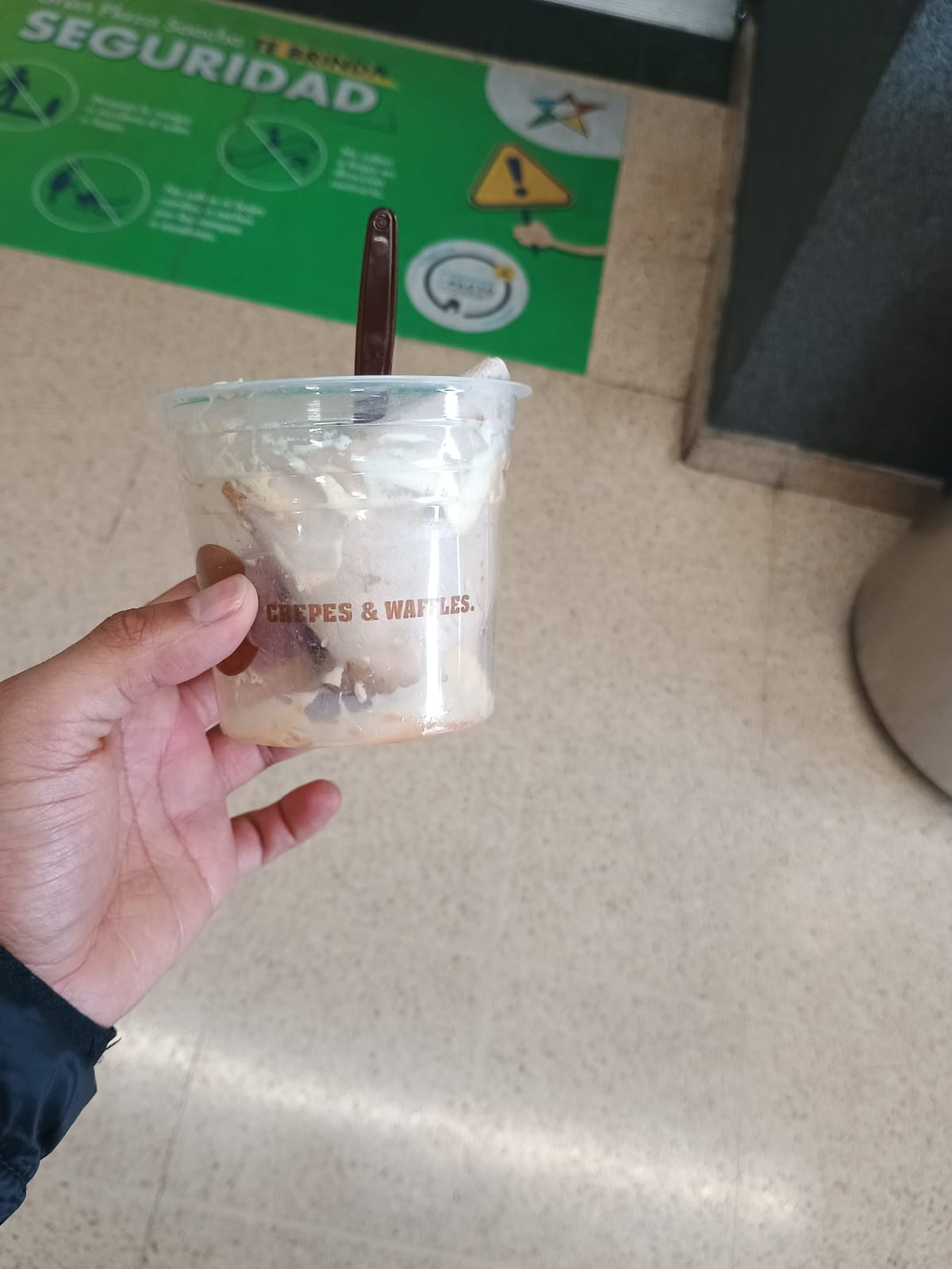Plastico: (149, 375, 533, 749)
